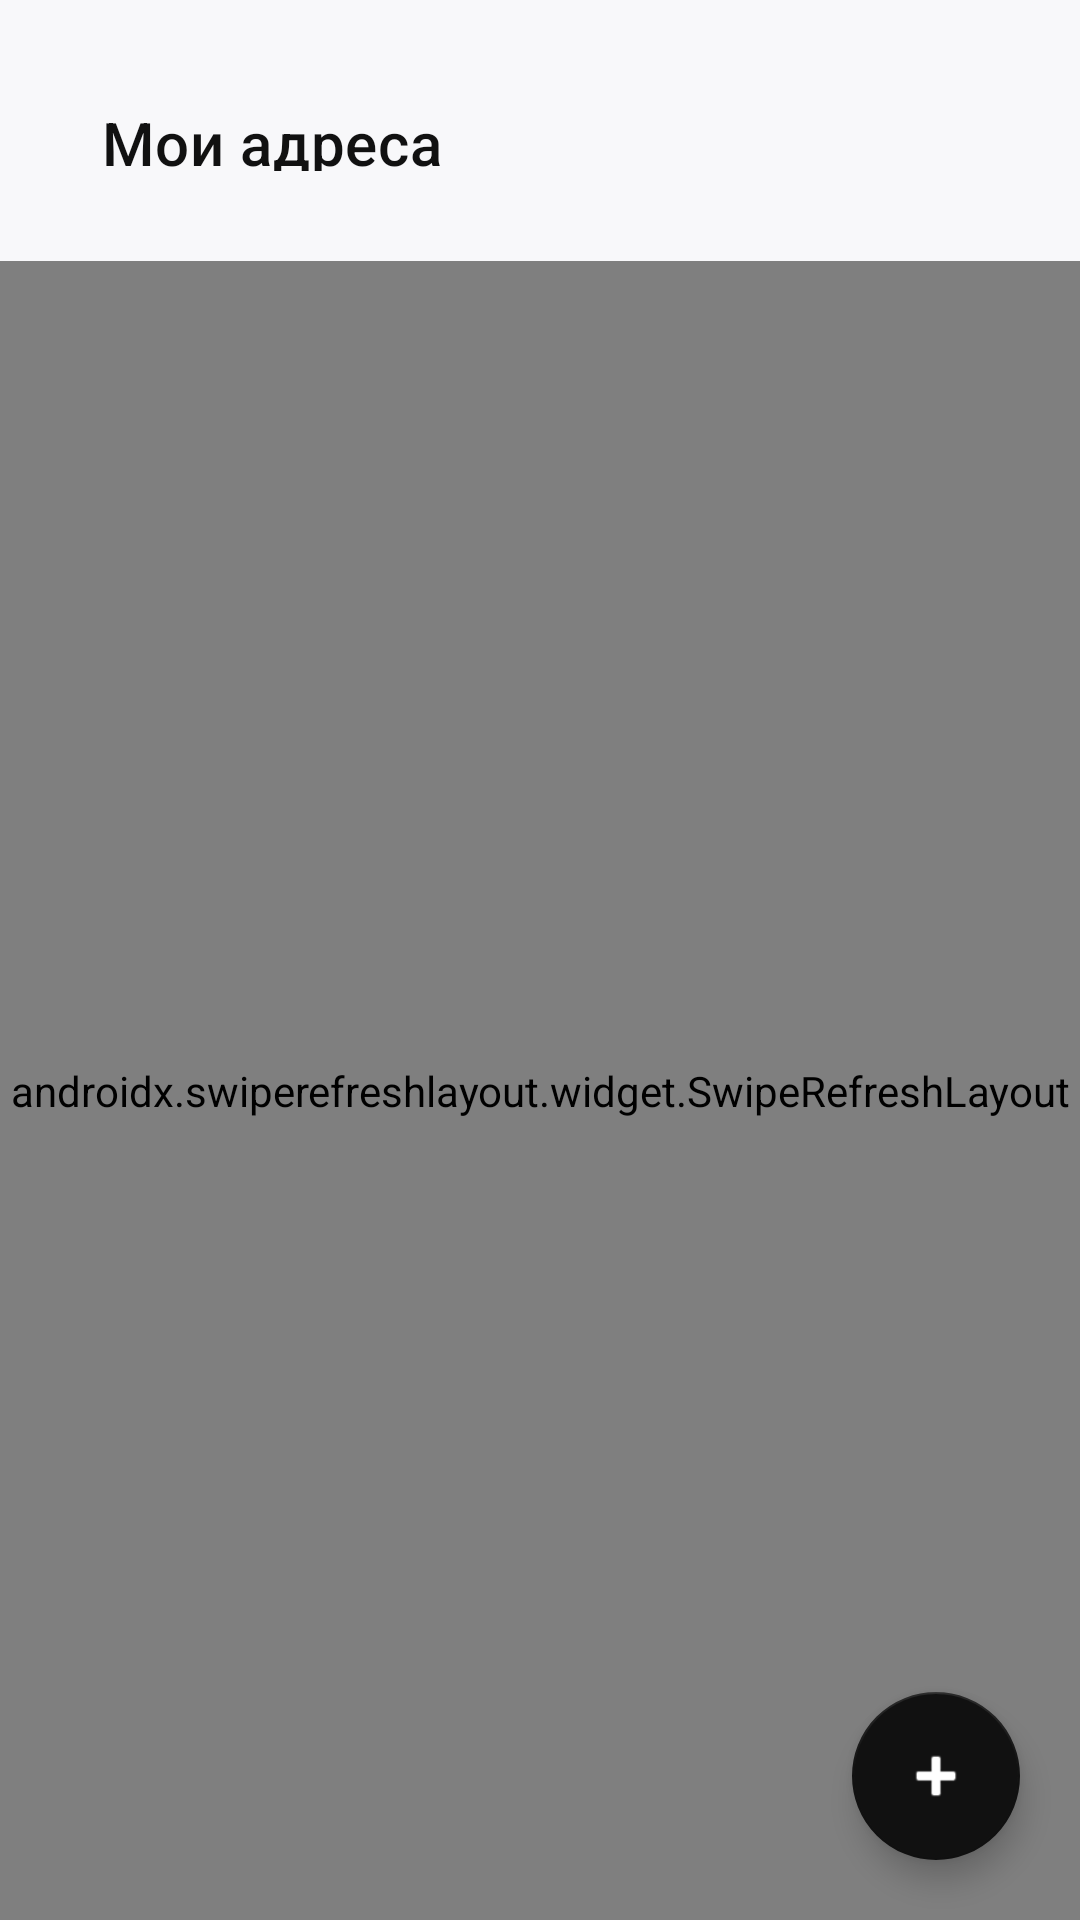

Point at icon controls on the screen. Image size 1080 x 1920, points as (x,y).
Добавить адрес: (936,1776)
